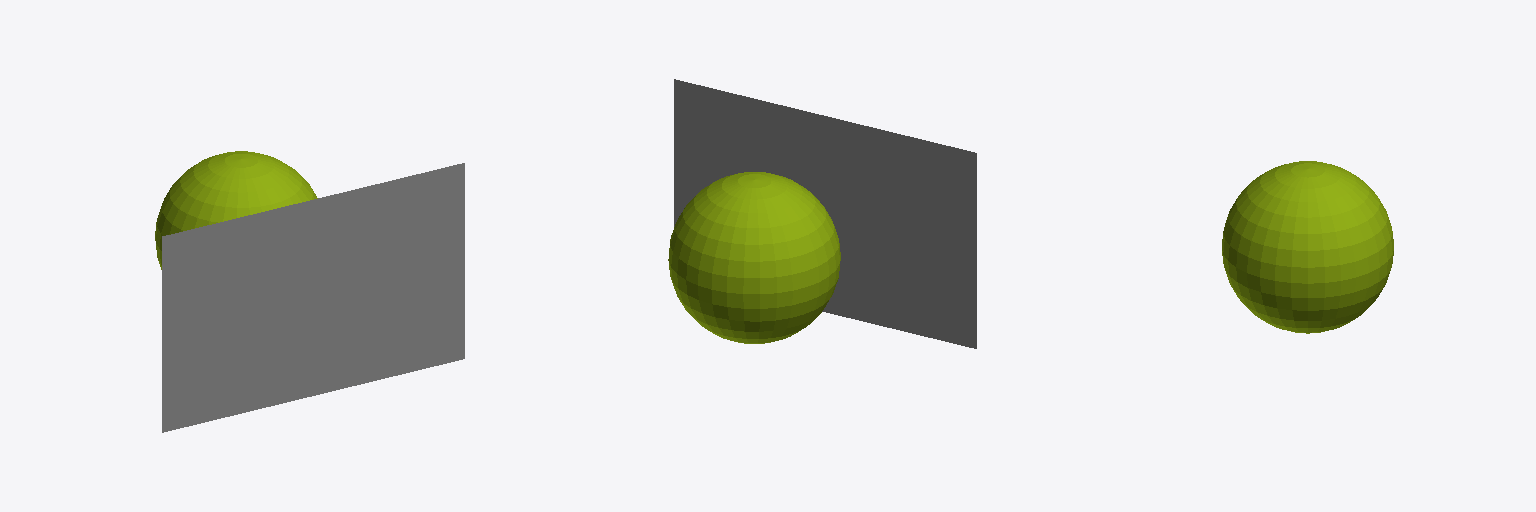
File: example.obj
3 renders of one model, left to right at view 1: azimuth 30°, elevation 25°; view 2: azimuth 150°, elevation 25°; view 3: azimuth 270°, elevation 25°, orthographic.
Parts seen in each view (by area): view 1: Plane001, Sphere001; view 2: Plane001, Sphere001; view 3: Sphere001.
Part boxes in pixels (bbox=[...]): Plane001: bbox=[162, 163, 464, 432]; Sphere001: bbox=[155, 151, 317, 269]; Plane001: bbox=[674, 79, 976, 348]; Sphere001: bbox=[668, 172, 840, 343]; Sphere001: bbox=[1222, 161, 1393, 333].
Size of the model in its own units: 127 by 78.64 by 83.06.